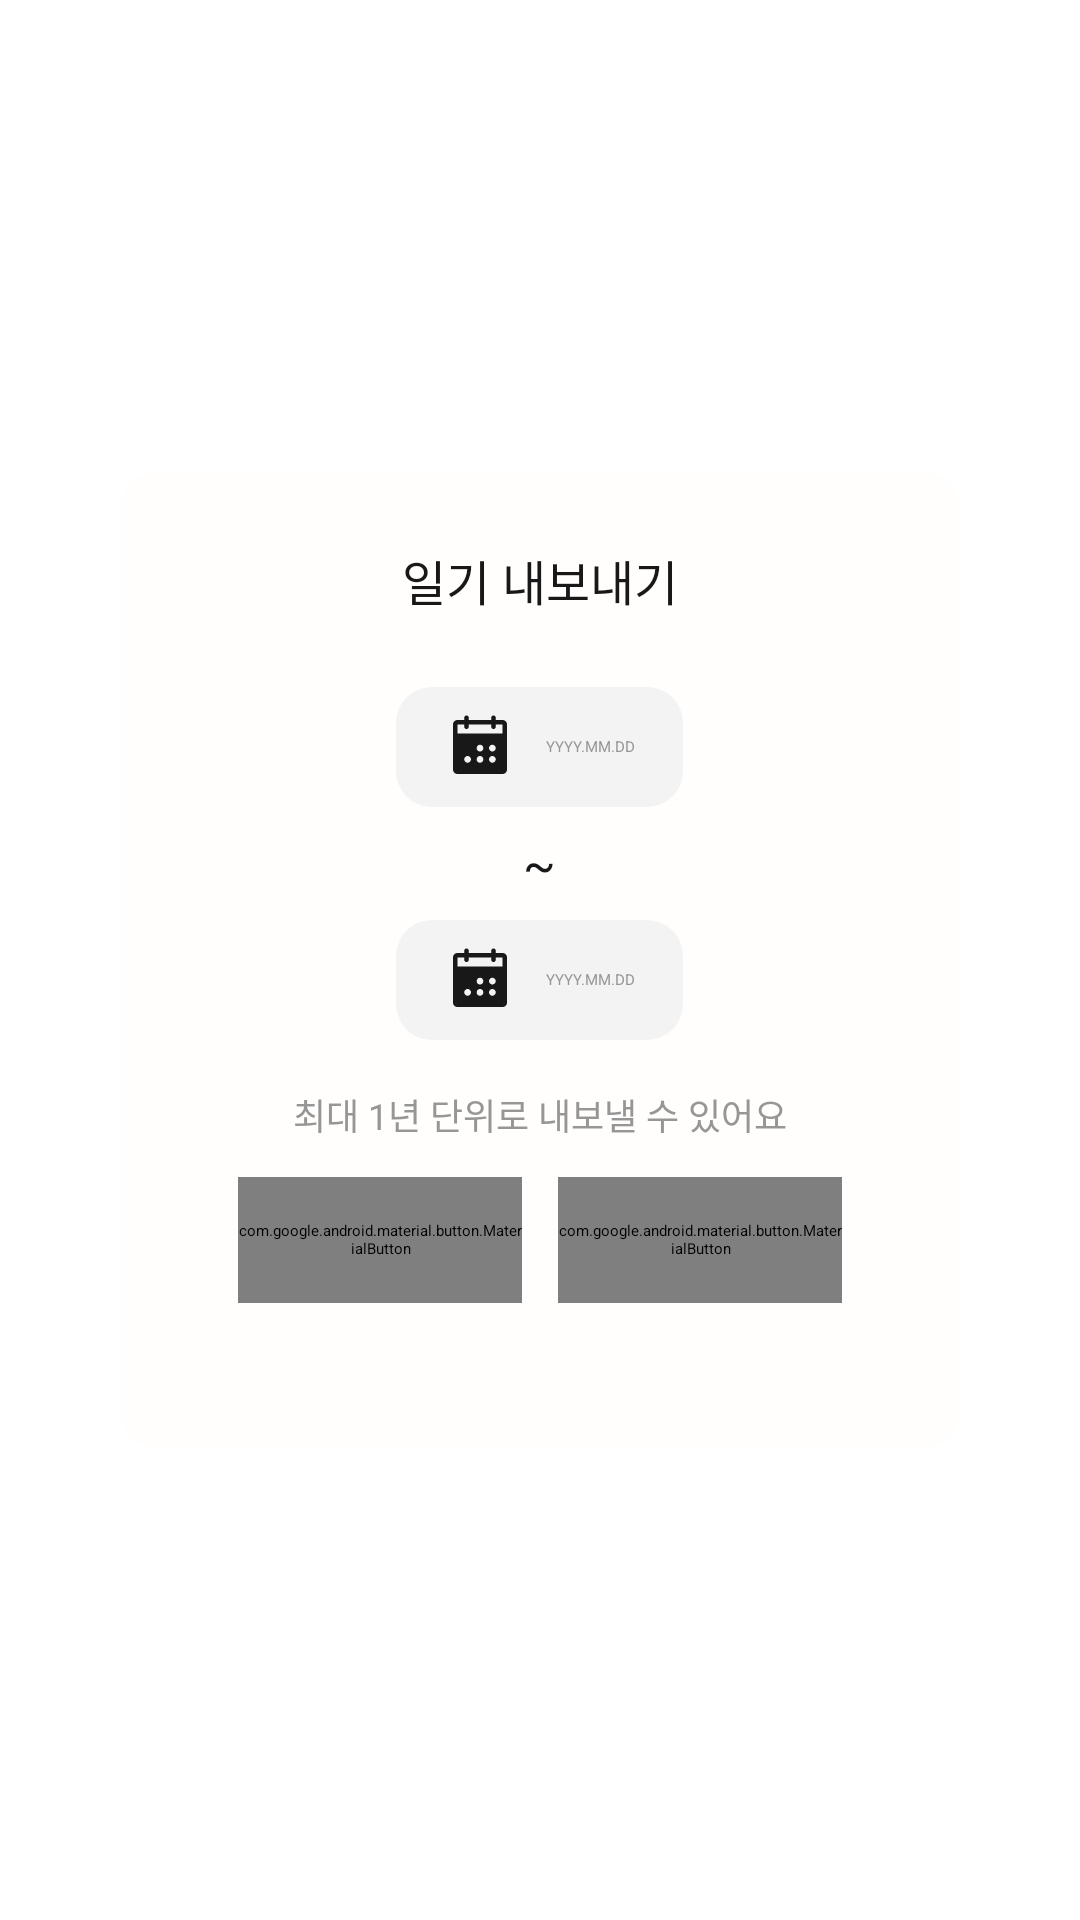

Where to tap for icons on this 1080*1920 app screen, as point (x, y):
calendar: point (480, 744), point (480, 977)
